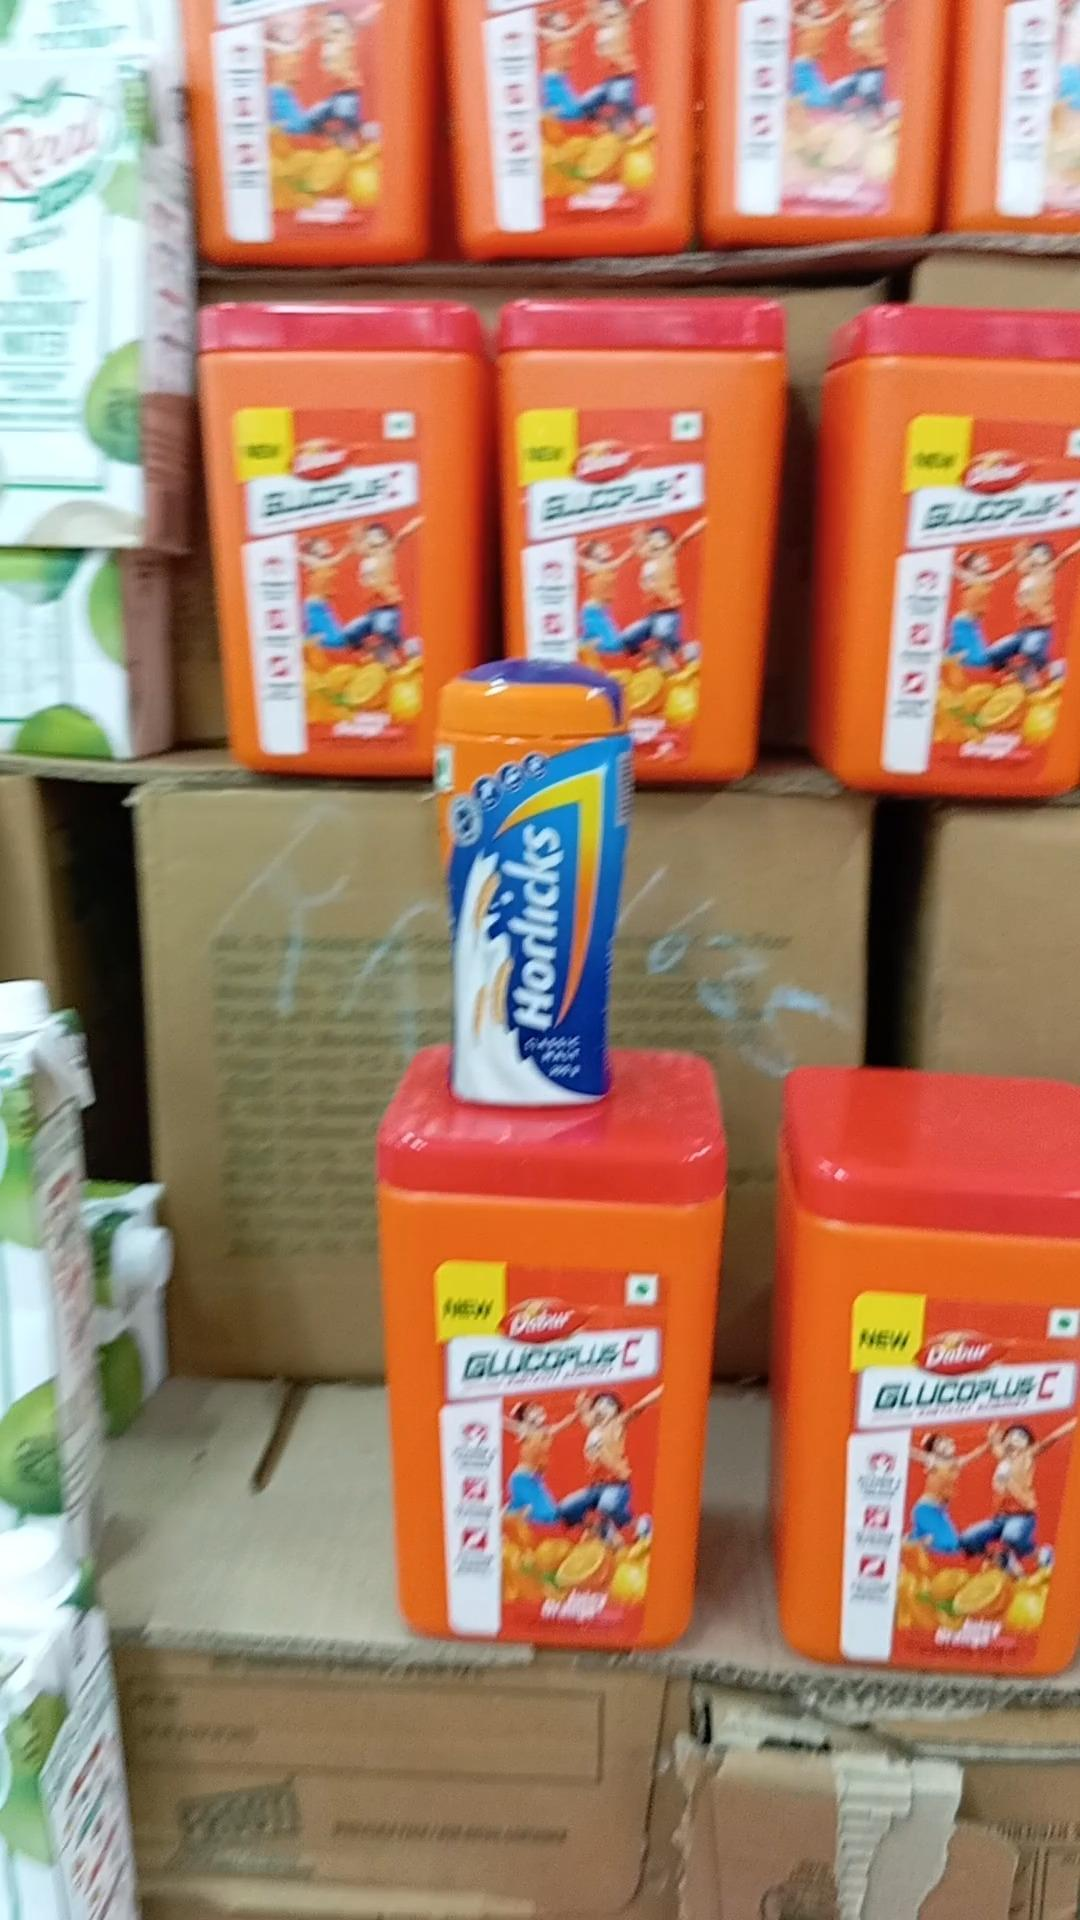HORLICK_CLASSIC_MALT_200_G_JAR: (429, 651, 628, 1110)
